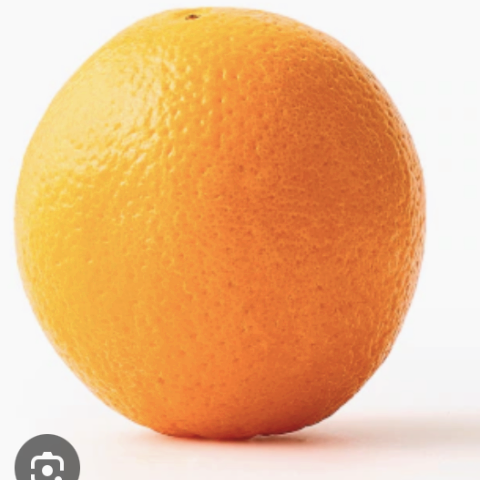orange: (0, 3, 469, 479)
